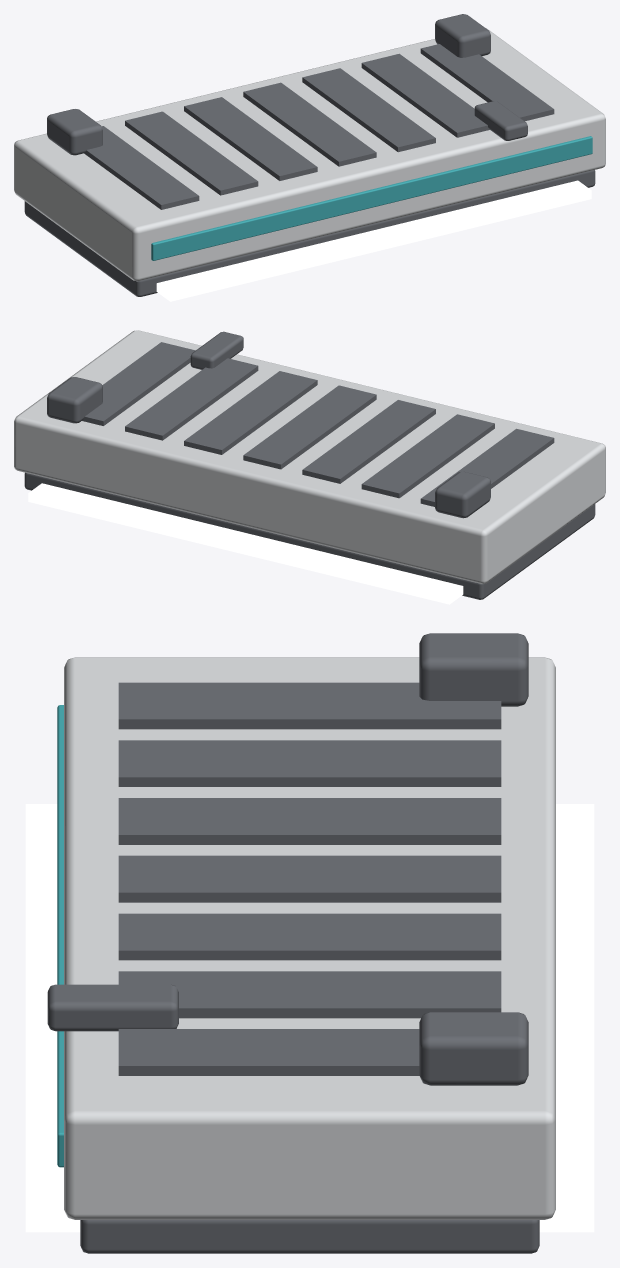
Rendered from public-aquarium-and-marine-centre-tank-lighting-hood-542461be__34152.glb.
3 renders of one model, top to bottom at view 1: azimuth 30°, elevation 25°; view 2: azimuth 150°, elevation 25°; view 3: azimuth 270°, elevation 25°, orthographic. The views are drawn at different scales.
Visible parts, largest first — view 1: tank-lighting-hood; view 2: tank-lighting-hood; view 3: tank-lighting-hood.
Part boxes in pixels (box(x1,y1,x2,y2)): tank-lighting-hood: box(14, 14, 605, 301); tank-lighting-hood: box(14, 330, 605, 604); tank-lighting-hood: box(25, 633, 594, 1253).
Bounding box in the file's own units: 2 × 0.4 × 1.04.
